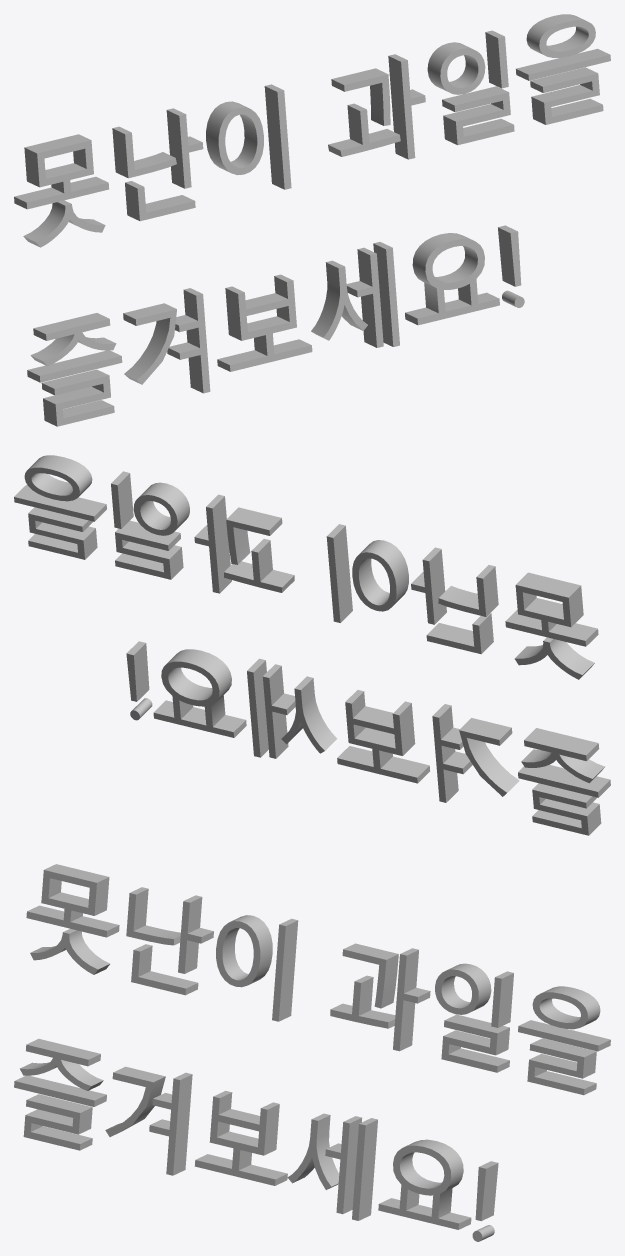
3 renders of one model, top to bottom at view 1: azimuth 30°, elevation 25°; view 2: azimuth 150°, elevation 25°; view 3: azimuth 330°, elevation 25°, orthographic. The views are drawn at different scales.
Visible parts, largest first — view 1: mesh_id36, mesh_id37; view 2: mesh_id36, mesh_id37; view 3: mesh_id36, mesh_id37.
Part boxes in pixels (x1,y1,x2,y2): mesh_id36: (14,14,610,247); mesh_id37: (27,225,524,426); mesh_id36: (14,455,598,679); mesh_id37: (126,641,610,835); mesh_id36: (26,864,610,1095); mesh_id37: (14,1038,498,1241).
Size of the model in its own units: 0.3881 by 0.1692 by 0.0385.
Materials: 2 (2 with a texture image).
